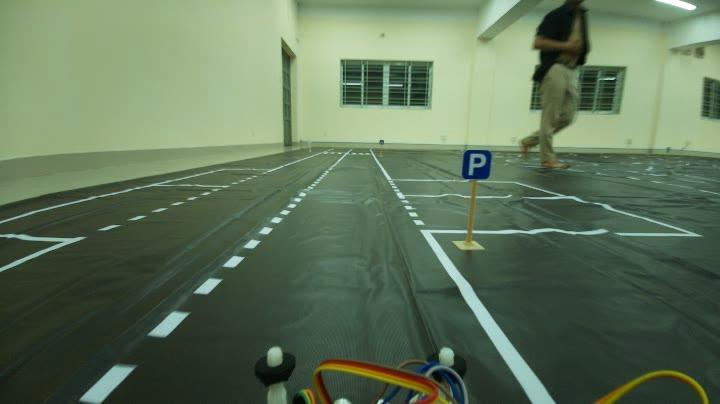parking: (454, 148, 496, 185)
